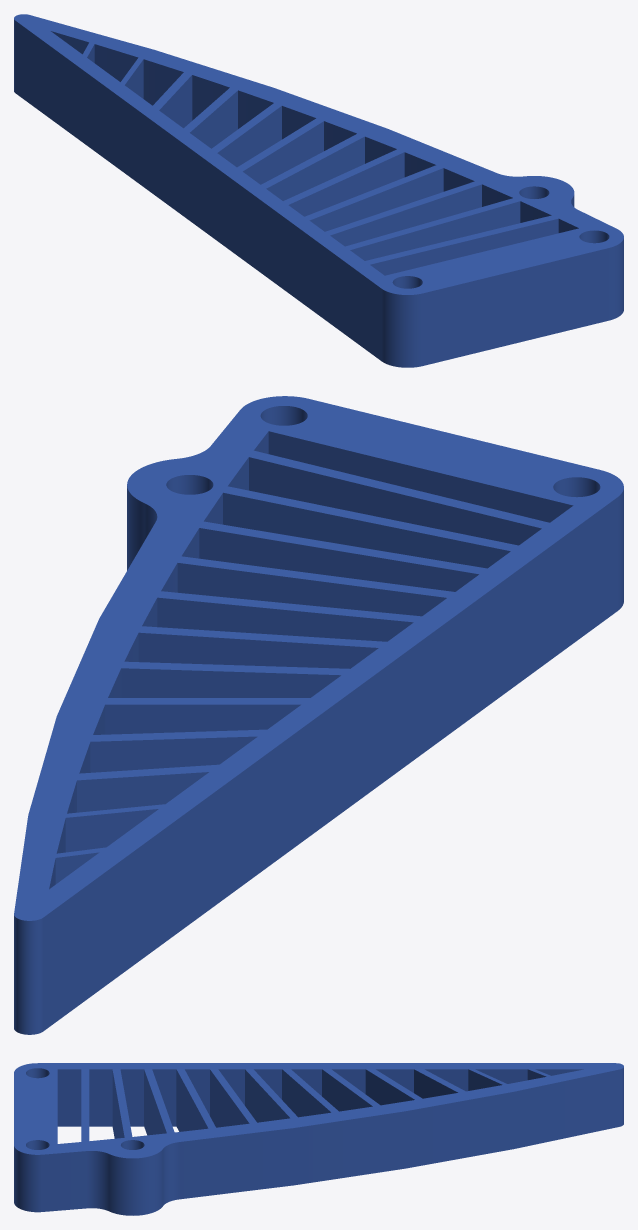
The model's file is 069_soft_gripper_finger.obj.
3 renders of one model, top to bottom at view 1: azimuth 30°, elevation 25°; view 2: azimuth 150°, elevation 25°; view 3: azimuth 270°, elevation 25°, orthographic. The views are drawn at different scales.
Visible parts, largest first — view 1: mesh1412, mesh1463, mesh1462, mesh1419, mesh1472, mesh1423, mesh1414, mesh1427, mesh1431, mesh1435, mesh1439, mesh1443 (+9 smaller); view 2: mesh1412, mesh1463, mesh1413, mesh1418, mesh1422, mesh1467, mesh1426, mesh1430, mesh1434, mesh1438, mesh1442, mesh1446 (+4 smaller); view 3: mesh1464, mesh1412, mesh1465, mesh1468, mesh1471, mesh1466, mesh1417, mesh1470, mesh1435, mesh1431, mesh1439, mesh1421 (+18 smaller).
Part boxes in pixels (<box>): mesh1412: <box>14,14,623,294</box>; mesh1463: <box>15,21,381,360</box>; mesh1462: <box>423,248,608,365</box>; mesh1419: <box>350,201,520,260</box>; mesh1472: <box>381,289,422,367</box>; mesh1423: <box>330,184,481,246</box>; mesh1414: <box>370,218,558,275</box>; mesh1427: <box>309,168,443,231</box>; mesh1431: <box>288,152,404,216</box>; mesh1435: <box>266,136,364,200</box>; mesh1439: <box>243,121,323,184</box>; mesh1443: <box>217,106,281,167</box>; mesh1412: <box>14,396,623,920</box>; mesh1463: <box>43,497,617,1031</box>; mesh1413: <box>249,457,541,545</box>; mesh1418: <box>223,492,510,568</box>; mesh1422: <box>199,528,478,591</box>; mesh1467: <box>268,431,573,522</box>; mesh1426: <box>177,563,446,616</box>; mesh1430: <box>157,597,413,641</box>; mesh1434: <box>138,632,378,668</box>; mesh1438: <box>121,668,340,697</box>; mesh1442: <box>105,704,300,734</box>; mesh1446: <box>90,736,257,772</box>; mesh1464: <box>180,1069,619,1199</box>; mesh1412: <box>14,1063,623,1158</box>; mesh1465: <box>109,1149,162,1215</box>; mesh1468: <box>42,1151,86,1211</box>; mesh1471: <box>14,1146,41,1212</box>; mesh1466: <box>57,1069,81,1126</box>; mesh1417: <box>89,1069,112,1126</box>; mesh1470: <box>87,1151,109,1210</box>; mesh1435: <box>245,1069,289,1122</box>; mesh1431: <box>210,1070,249,1127</box>; mesh1439: <box>282,1069,330,1117</box>; mesh1421: <box>120,1069,143,1126</box>.
Size of the model in its own units: 0.0285 by 0.008 by 0.0771.
